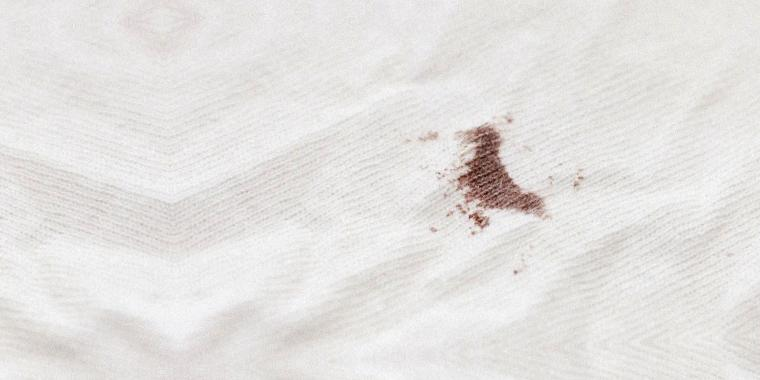stain: (446, 119, 555, 227)
